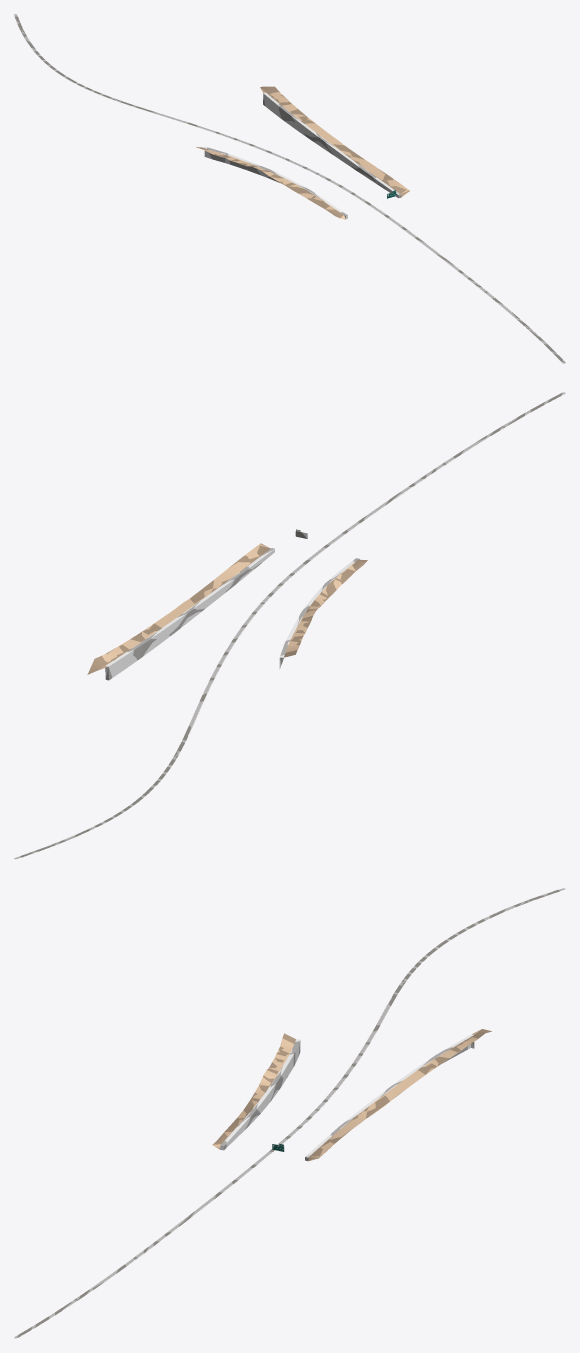
File: sidewalk_mojave4.dae
3 renders of one model, top to bottom at view 1: azimuth 30°, elevation 25°; view 2: azimuth 150°, elevation 25°; view 3: azimuth 330°, elevation 25°, orthographic. The views are drawn at different scales.
Visible parts, largest first — view 1: sidewalk_mojave4_a6000, sidewalk_mojave4_a2000; view 2: sidewalk_mojave4_a6000, sidewalk_mojave4_a2000; view 3: sidewalk_mojave4_a6000, sidewalk_mojave4_a2000.
Part boxes in pixels (left/top/right/bottom): sidewalk_mojave4_a6000: left=14, top=14, right=565, bottom=363; sidewalk_mojave4_a2000: left=15, top=16, right=565, bottom=362; sidewalk_mojave4_a6000: left=14, top=392, right=565, bottom=859; sidewalk_mojave4_a2000: left=20, top=392, right=562, bottom=857; sidewalk_mojave4_a6000: left=14, top=888, right=565, bottom=1338; sidewalk_mojave4_a2000: left=17, top=890, right=559, bottom=1337.
Size of the model in its own units: 88.67 by 611 by 20.59.
